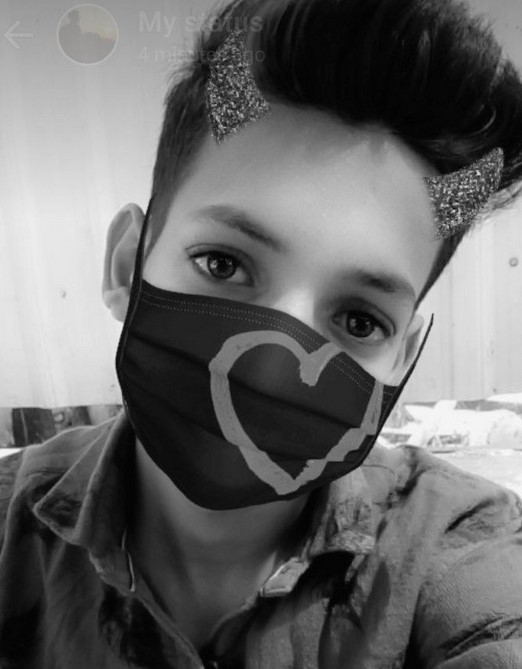face_with_mask: (98, 58, 489, 521)
